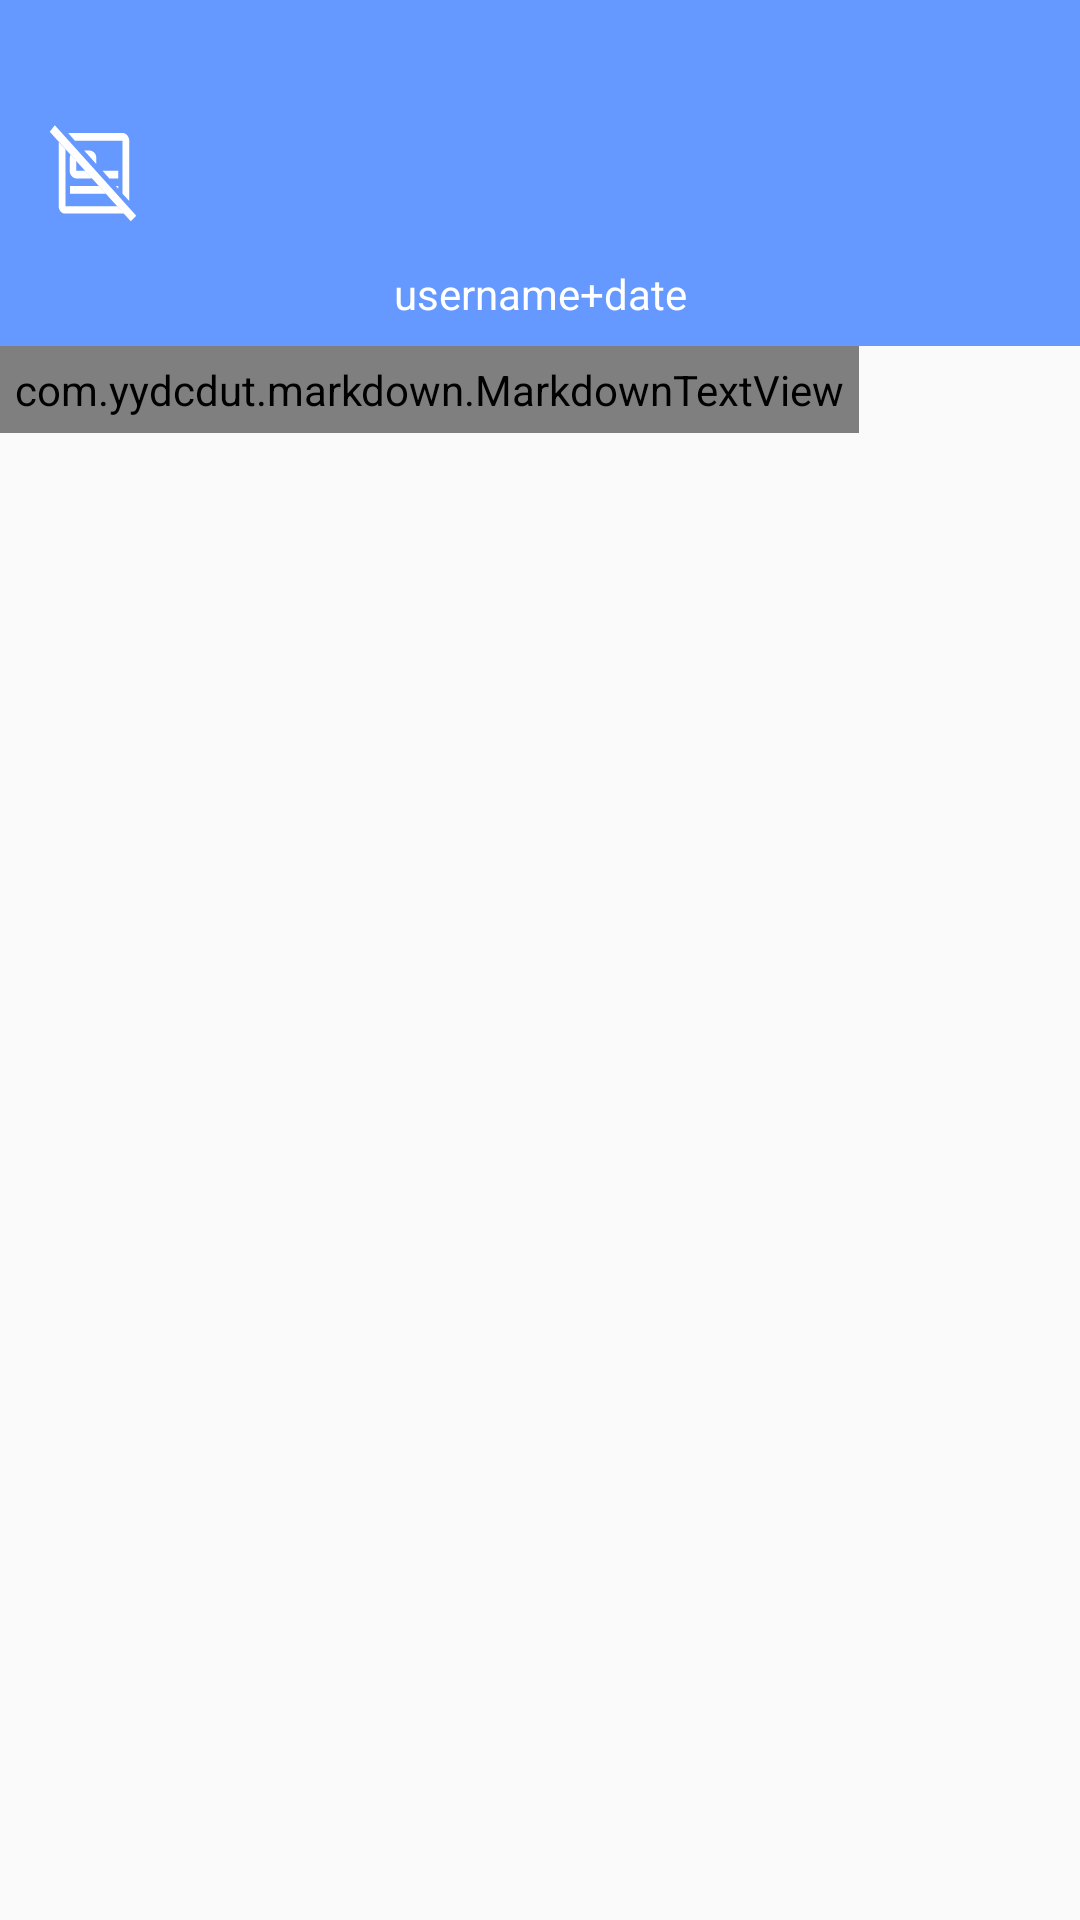

Point at icon controls on the screen. Image size 1080 x 1920, points as (x=x, y=y).
close file: (x=93, y=173)
